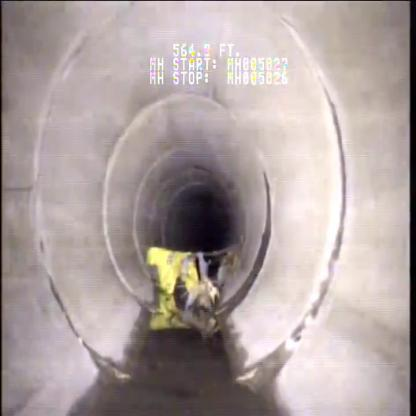Obstacle: (139, 232, 231, 319)
